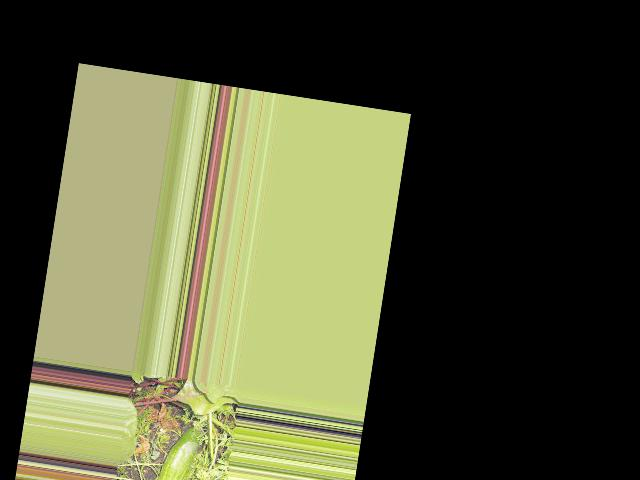cucumber: (154, 422, 203, 480)
